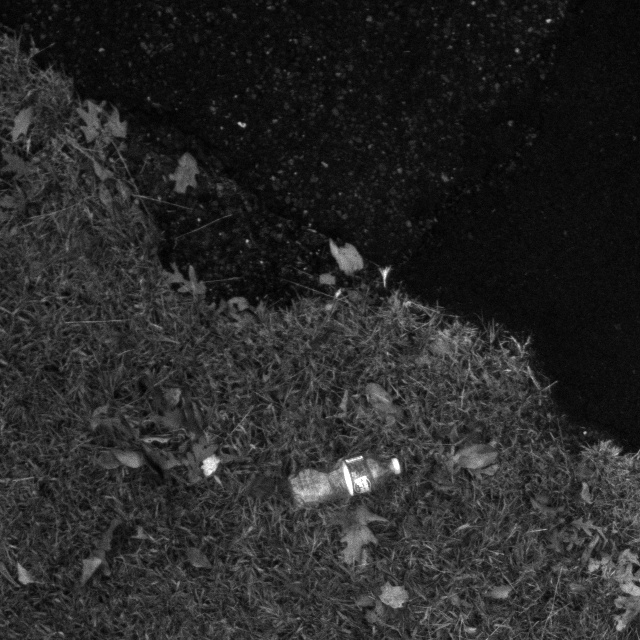bottle: (282, 428, 425, 526)
